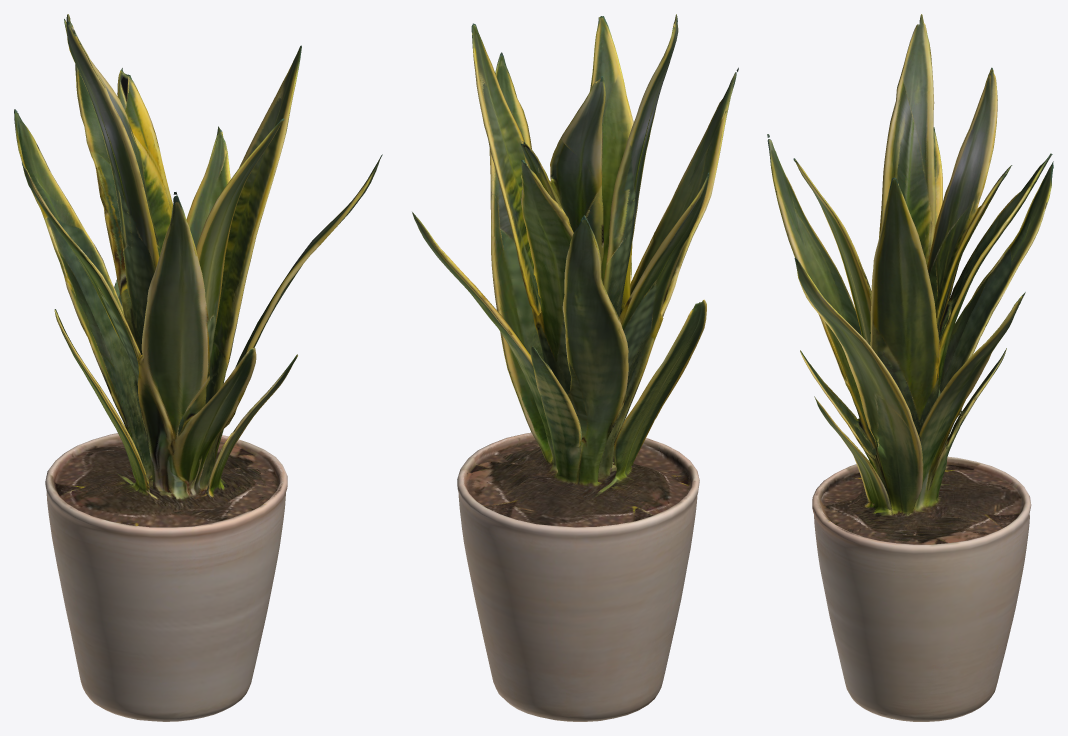
The model's file is image-to-3d-1.glb.
The picture shows the model from 3 angles, left to right: view 1: azimuth 30°, elevation 25°; view 2: azimuth 150°, elevation 25°; view 3: azimuth 270°, elevation 25°; orthographic projection. The views are drawn at different scales.
Bounding box in the file's own units: 0.8392 × 1.98 × 0.8073.
Materials: 1 (1 with a texture image).
